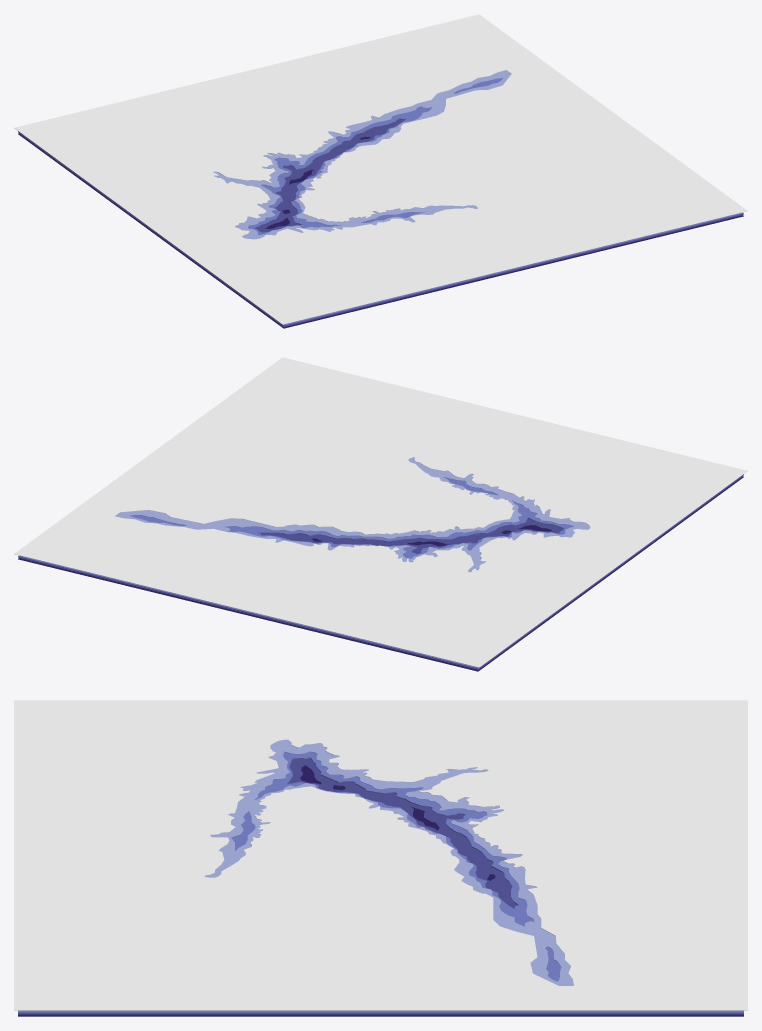
Rendered from map.glb.
The picture shows the model from 3 angles, top to bottom: view 1: azimuth 30°, elevation 25°; view 2: azimuth 150°, elevation 25°; view 3: azimuth 270°, elevation 25°; orthographic projection. The views are drawn at different scales.
Visible parts, largest first — view 1: Ground 0.001, Ground 1.001, Ground 2.001, Ground 3.001, Ground 4.001; view 2: Ground 0.001, Ground 1.001, Ground 2.001, Ground 3.001, Ground 4.001; view 3: Ground 0.001, Ground 1.001, Ground 2.001, Ground 3.001, Ground 4.001.
Part boxes in pixels (x1,y1,x2,y2): Ground 0.001: (14, 14, 747, 324); Ground 1.001: (213, 70, 511, 239); Ground 2.001: (18, 78, 743, 325); Ground 3.001: (18, 119, 743, 327); Ground 4.001: (18, 134, 743, 328); Ground 0.001: (14, 357, 747, 667); Ground 1.001: (115, 457, 590, 572); Ground 2.001: (18, 474, 743, 668); Ground 3.001: (18, 475, 743, 670); Ground 4.001: (18, 477, 743, 671); Ground 0.001: (14, 700, 747, 1010); Ground 1.001: (18, 740, 743, 1010); Ground 2.001: (18, 752, 743, 1013); Ground 3.001: (18, 758, 743, 1014); Ground 4.001: (18, 766, 743, 1016).
Bounding box in the file's own units: 19.25 × 0.2339 × 19.25.
